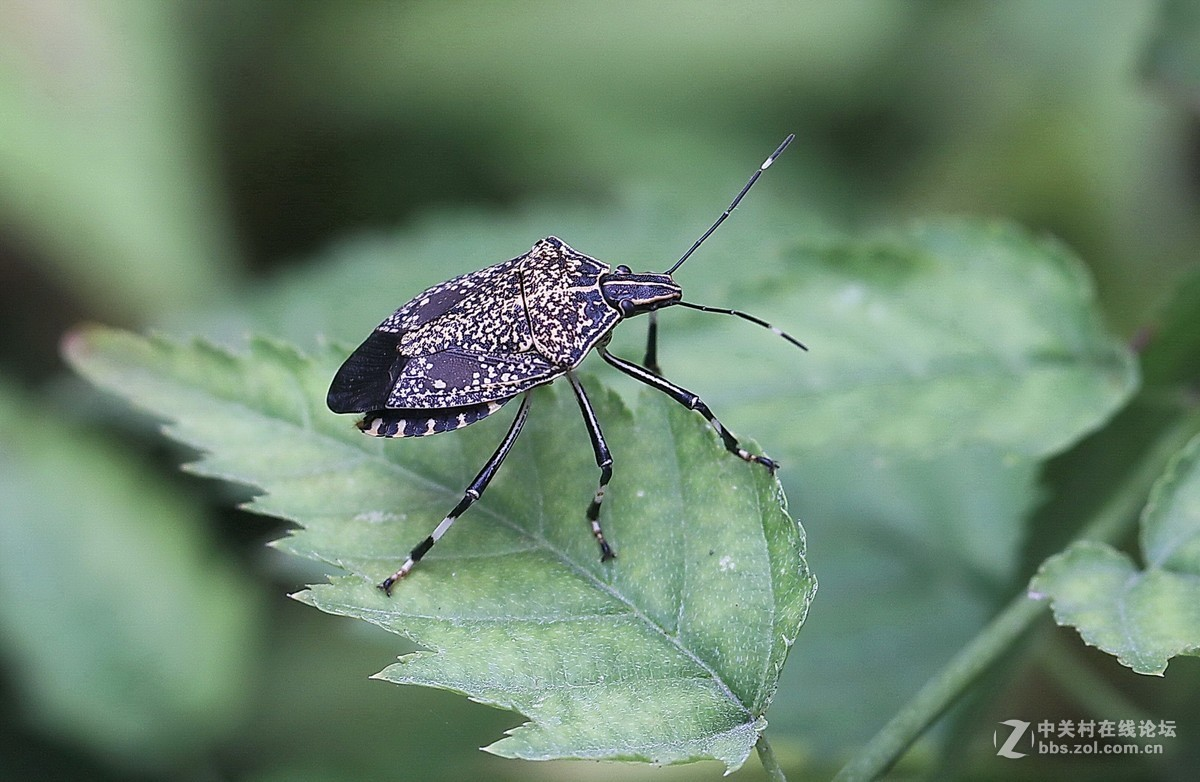chunchong: (332, 207, 798, 540)
